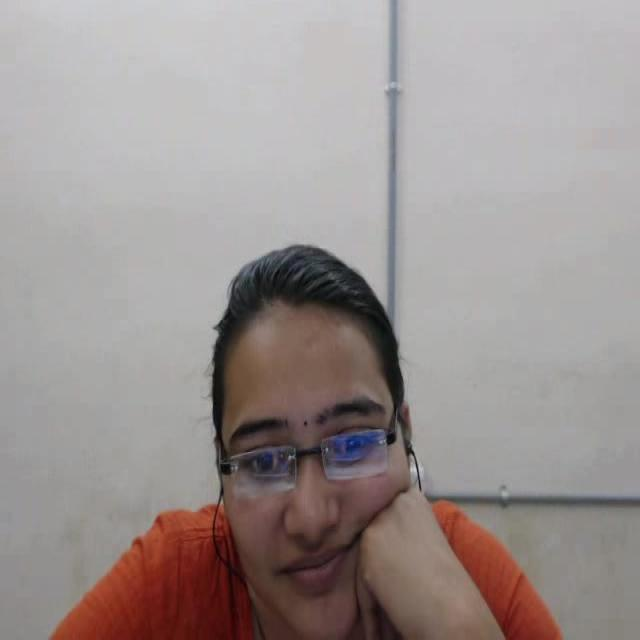Bored: (152, 210, 494, 640)
